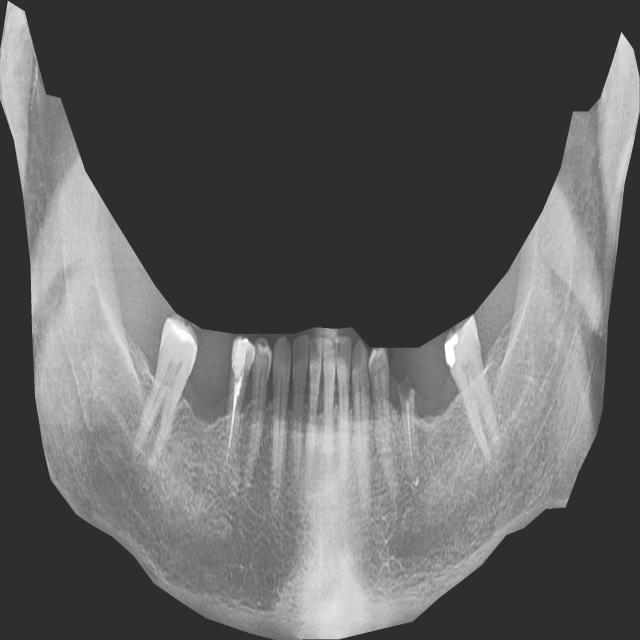mandibula: (0, 1, 640, 640)
